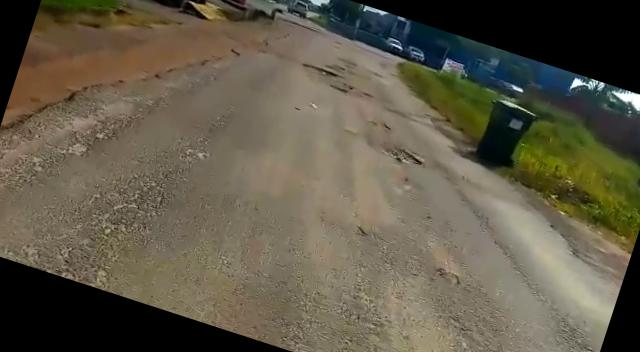pothole: (382, 142, 433, 172), (300, 60, 341, 80), (326, 83, 350, 96)
